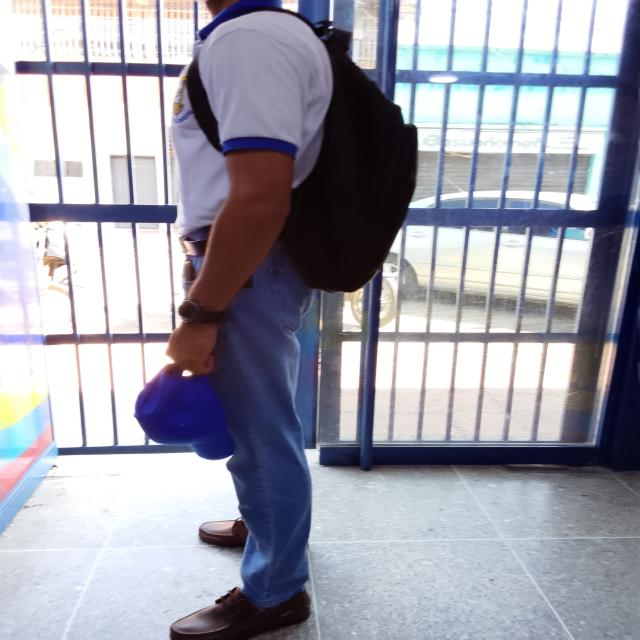uniforme_superior: (172, 0, 334, 238)
